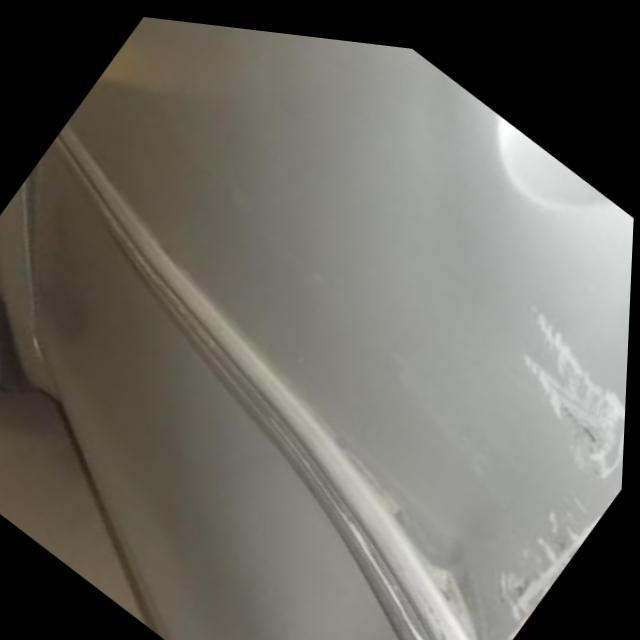rub: (498, 437, 627, 612)
scratch: (212, 323, 502, 640), (520, 284, 629, 483), (443, 608, 506, 640)
